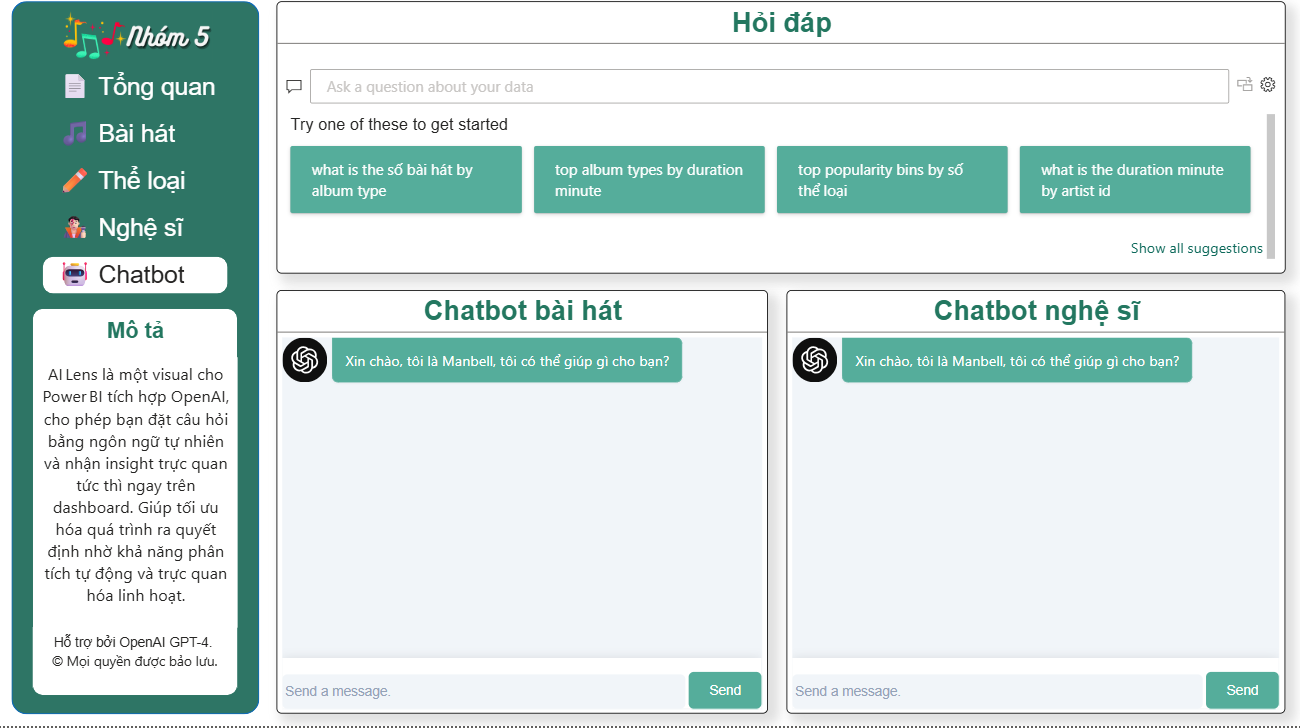

The page's visual inventory and layout, read from the dashboard file:
{"tool":"powerbi","page":{"name":"🤖  Chatbot","canvas":[1280,720],"ordinal":4},"visuals":[{"type":"aILensEA6F1EB9ACB04175ADC575D450915999","title":"Chatbot bài hát","fields":{"category":["vietnamese_only_songs_clean.album","vietnamese_only_songs_clean.name","vietnamese_only_songs_clean.genres","vietnamese_only_songs_clean.artists","vietnamese_only_songs_clean.id"],"measure":["Avg(vietnamese_only_songs_clean.stream_counts)","Sum(vietnamese_only_songs_clean.disc_number)","Min(vietnamese_only_songs_clean.release_date)","Avg(vietnamese_only_songs_clean.album_popularity)","Min(vietnamese_only_songs_clean.album_type)","Sum(vietnamese_only_songs_clean.duration_ms)","Sum(vietnamese_only_songs_clean.popularity)"]},"box":[276,294,480.7,414.7],"z":0},{"type":"aILensEA6F1EB9ACB04175ADC575D450915999","title":"Chatbot nghệ sĩ","fields":{"measure":["Sum(vietnamese_artists.followers)","Sum(vietnamese_artists.popularity)"],"category":["vietnamese_artists.id","vietnamese_artists.name","vietnamese_artists.type","vietnamese_artists.genres"]},"box":[775.3,294,488,414.7],"z":1000},{"type":"qnaVisual","title":"Hỏi đáp","box":[276,11.3,987.3,266],"z":2000},{"type":"shape","title":"Menu Background","box":[17.3,11.3,242.7,697.3],"z":3000},{"type":"shape","title":"Bộ lọc","box":[38,312,200,378],"z":4000},{"type":"image","box":[53.6,15,167.9,62.1],"z":5000},{"type":"pageNavigator","title":"Menu Buttons","box":[48,77.3,181.3,224],"z":6000},{"type":"shape","box":[76,314,125.3,38.7],"z":7000},{"type":"textbox","box":[38.7,360,199.3,264],"z":8000},{"type":"textbox","box":[37.3,624,200,58.7],"z":9000}]}

Visuals, with their boxes in screenshot pixels (x1, y1, x2, y2), scaled from the page's 1280x720 canvas onto the 1300x728 screenshot:
"Chatbot bài hát" aILensEA6F1EB9ACB04175ADC575D450915999: region(280, 297, 769, 717)
"Chatbot nghệ sĩ" aILensEA6F1EB9ACB04175ADC575D450915999: region(787, 297, 1283, 717)
"Hỏi đáp" qnaVisual: region(280, 11, 1283, 280)
"Menu Background" shape: region(18, 11, 264, 716)
"Bộ lọc" shape: region(39, 315, 242, 698)
image: region(54, 15, 225, 78)
"Menu Buttons" pageNavigator: region(49, 78, 233, 305)
shape: region(77, 317, 204, 357)
textbox: region(39, 364, 242, 631)
textbox: region(38, 631, 241, 690)
